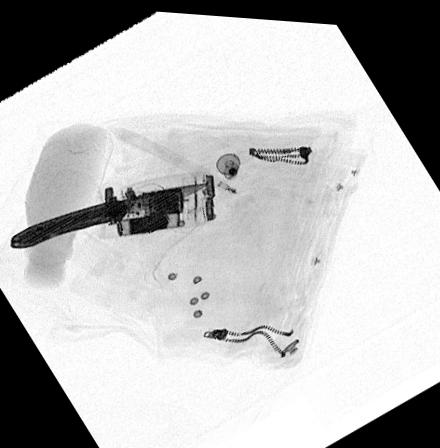Knife: (7, 177, 210, 249)
